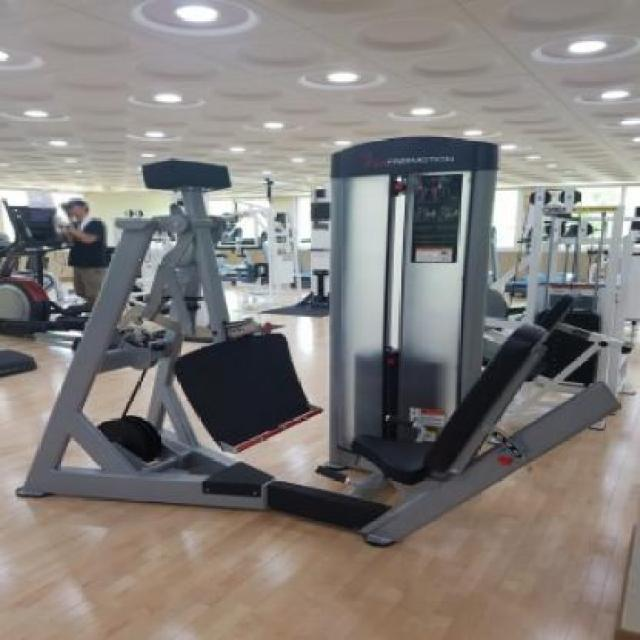leg press: (18, 120, 640, 640)
